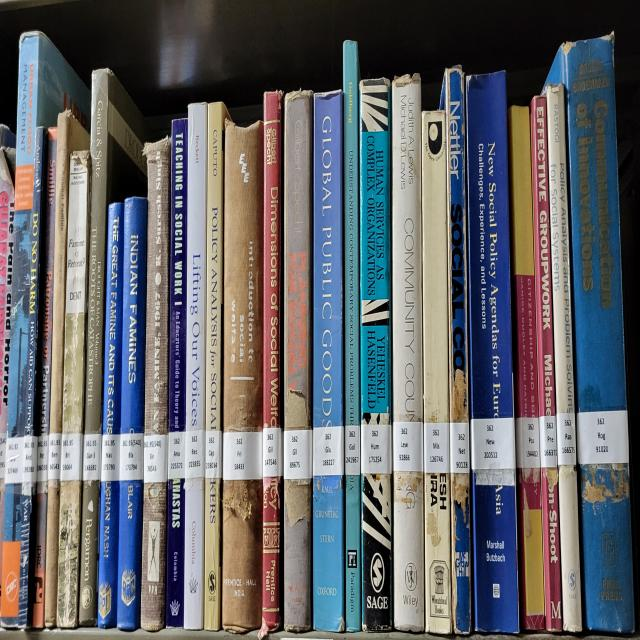Book: (0, 32, 90, 628), (546, 35, 635, 633), (79, 68, 146, 625), (466, 70, 519, 633), (45, 111, 90, 628), (222, 119, 264, 630), (545, 84, 582, 630), (508, 106, 545, 630), (391, 76, 425, 630), (312, 92, 345, 630), (360, 78, 392, 630), (440, 65, 471, 633), (530, 95, 562, 630), (421, 111, 451, 633), (58, 149, 90, 628), (140, 138, 171, 630), (284, 92, 312, 630), (18, 127, 48, 628), (259, 92, 284, 639), (32, 127, 58, 628), (118, 198, 148, 630), (204, 103, 228, 630), (184, 103, 208, 628), (166, 119, 188, 628), (342, 41, 361, 630), (98, 203, 124, 628)
Label: (576, 409, 629, 465), (470, 417, 515, 471), (222, 430, 262, 479), (312, 425, 344, 476), (392, 422, 424, 471), (361, 422, 391, 473), (284, 430, 312, 479), (424, 422, 449, 473), (515, 417, 540, 468), (119, 433, 144, 482), (144, 433, 169, 482), (556, 411, 576, 465), (60, 433, 82, 482), (262, 427, 282, 479), (539, 414, 558, 468), (450, 422, 470, 473), (82, 433, 101, 482), (101, 433, 120, 482), (185, 430, 204, 479), (5, 436, 24, 484), (168, 430, 185, 479), (205, 430, 222, 479), (22, 436, 38, 484), (345, 425, 360, 476), (36, 436, 49, 482), (48, 433, 61, 479)
